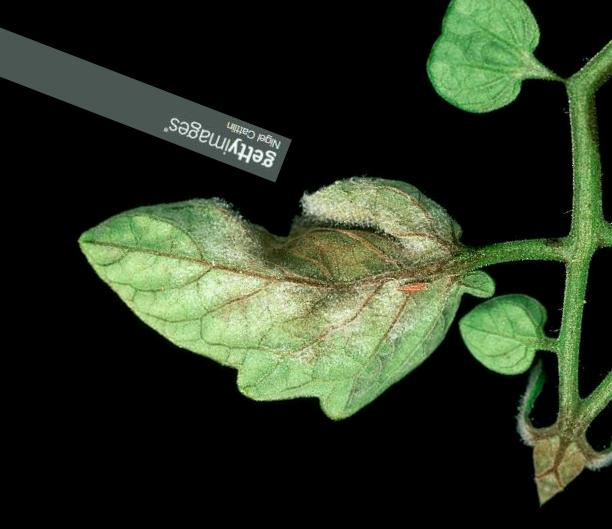Tomato leaf late blight: (42, 71, 509, 463)
